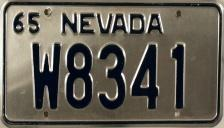1: (168, 40, 189, 112)
3: (96, 41, 128, 110)
4: (129, 40, 163, 112)
8: (62, 41, 95, 110)
W: (30, 40, 62, 112)
